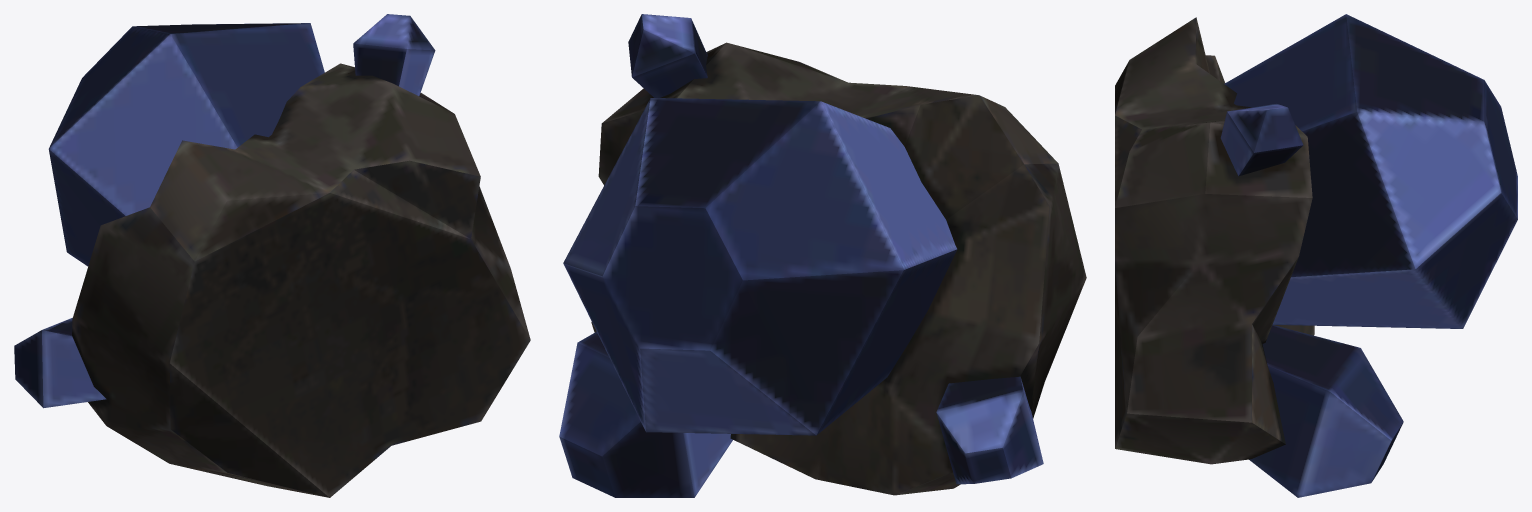
Rendered from sapp.glb.
3 views of the same model, side by side, from view 1: azimuth 30°, elevation 25°; view 2: azimuth 150°, elevation 25°; view 3: azimuth 270°, elevation 25° (orthographic). The views are drawn at different scales.
Visible parts, largest first — view 1: Root__Mt_Body, Root__Mt_Ore; view 2: Root__Mt_Ore, Root__Mt_Body; view 3: Root__Mt_Ore, Root__Mt_Body.
Boxes of the visible parts, x1,y1,x2,y2 form: Root__Mt_Body: [72, 63, 530, 497]; Root__Mt_Ore: [14, 14, 435, 408]; Root__Mt_Ore: [559, 14, 1043, 497]; Root__Mt_Body: [591, 42, 1086, 495]; Root__Mt_Ore: [1220, 14, 1517, 497]; Root__Mt_Body: [1115, 17, 1314, 464].
Size of the model in its own units: 0.5955 by 0.5457 by 0.5103.
2 materials, 2 textured.
